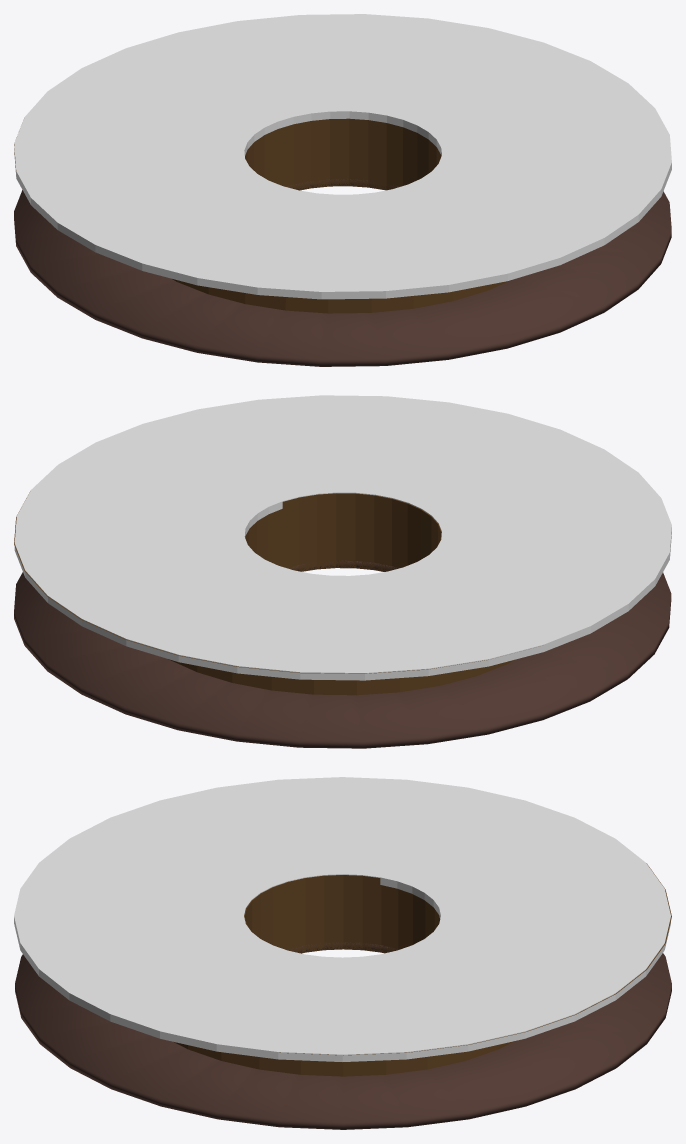
File: kela3.fbx
The picture shows the model from 3 angles, top to bottom: view 1: azimuth 30°, elevation 25°; view 2: azimuth 150°, elevation 25°; view 3: azimuth 270°, elevation 25°; orthographic projection.
Visible parts, largest first — view 1: päällinen, pohja, runko; view 2: päällinen, pohja, runko; view 3: päällinen, pohja, runko.
Part boxes in pixels (bbox=[...]): päällinen: bbox=[14, 14, 671, 299]; pohja: bbox=[14, 179, 671, 366]; runko: bbox=[14, 118, 511, 313]; päällinen: bbox=[14, 395, 671, 680]; pohja: bbox=[14, 560, 671, 748]; runko: bbox=[14, 491, 514, 695]; päällinen: bbox=[14, 777, 670, 1061]; pohja: bbox=[15, 942, 671, 1129]; runko: bbox=[174, 863, 671, 1076].
Bounding box in the file's own units: 40.02 × 5.04 × 40.06.
